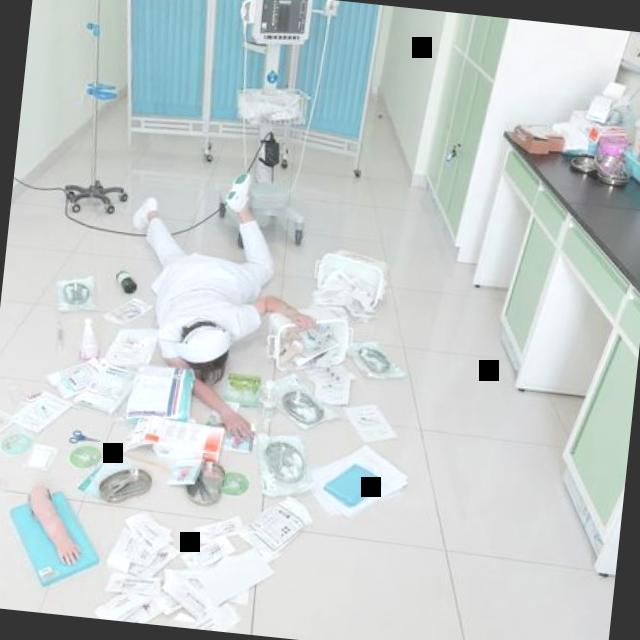Fall-Detected: (92, 127, 320, 474)
